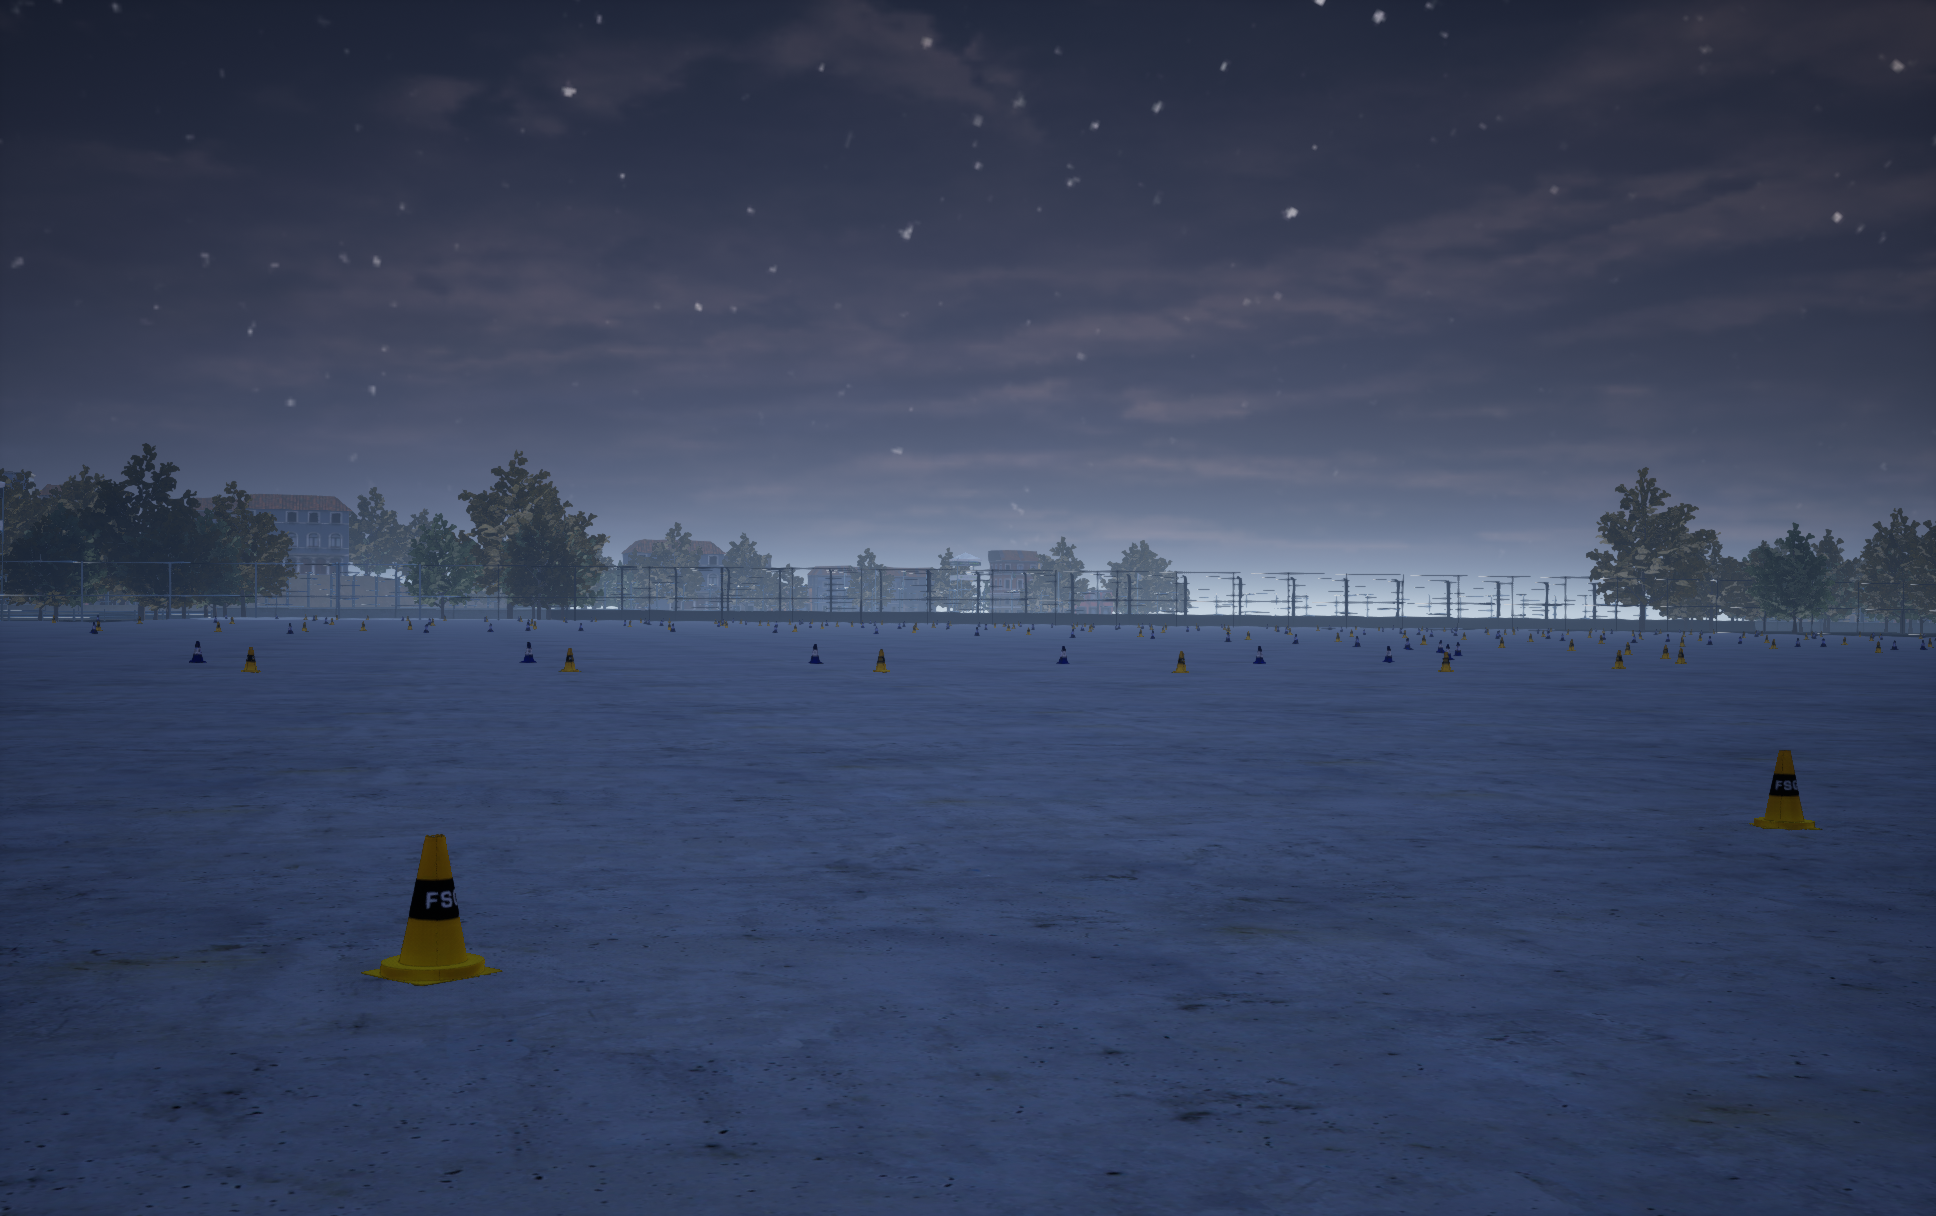blue: (361, 834, 502, 985), (1747, 749, 1823, 829), (558, 649, 581, 671), (241, 647, 261, 672), (873, 649, 890, 672), (1171, 651, 1188, 672), (1439, 651, 1453, 671)
yellow: (518, 642, 537, 663), (189, 642, 206, 663), (808, 644, 822, 663), (1056, 646, 1069, 663), (1252, 646, 1265, 663)
